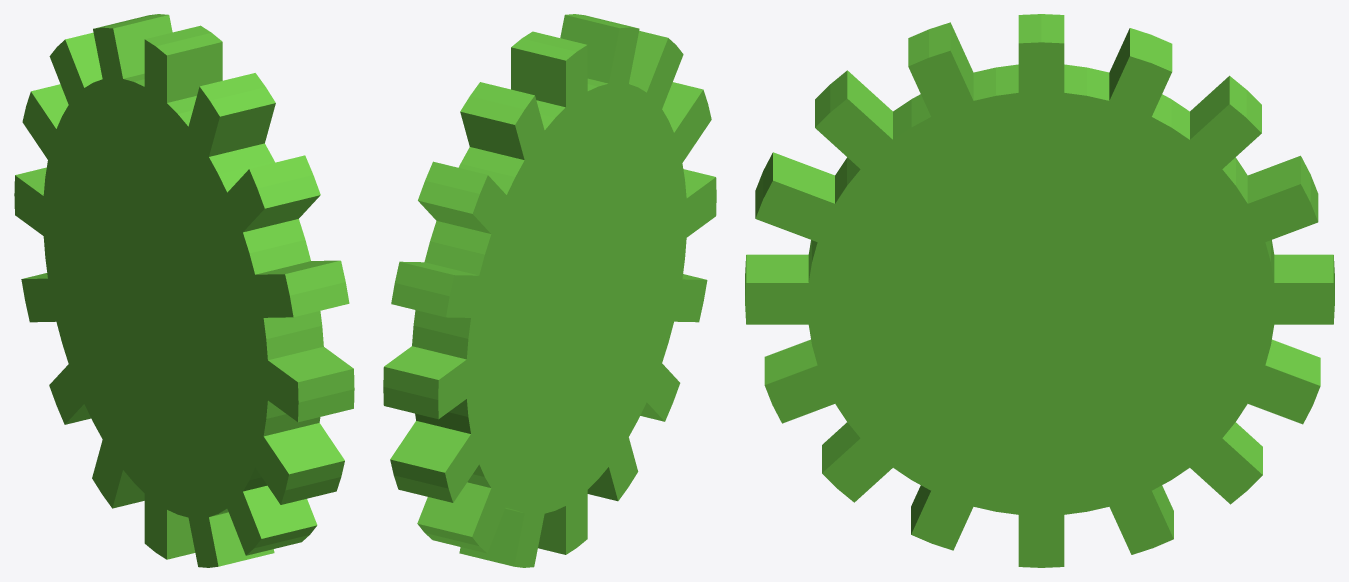
File: gear5.fbx
3 views of the same model, side by side, from view 1: azimuth 30°, elevation 25°; view 2: azimuth 150°, elevation 25°; view 3: azimuth 270°, elevation 25° (orthographic). The views are drawn at different scales.
Parts seen in each view (by area): view 1: Cylinder.001; view 2: Cylinder.001; view 3: Cylinder.001.
Part boxes in pixels (x1,y1,x2,y2): Cylinder.001: [14, 14, 354, 567]; Cylinder.001: [383, 14, 716, 567]; Cylinder.001: [745, 14, 1334, 567].
Bounding box in the file's own units: 57.38 × 496 × 504.
